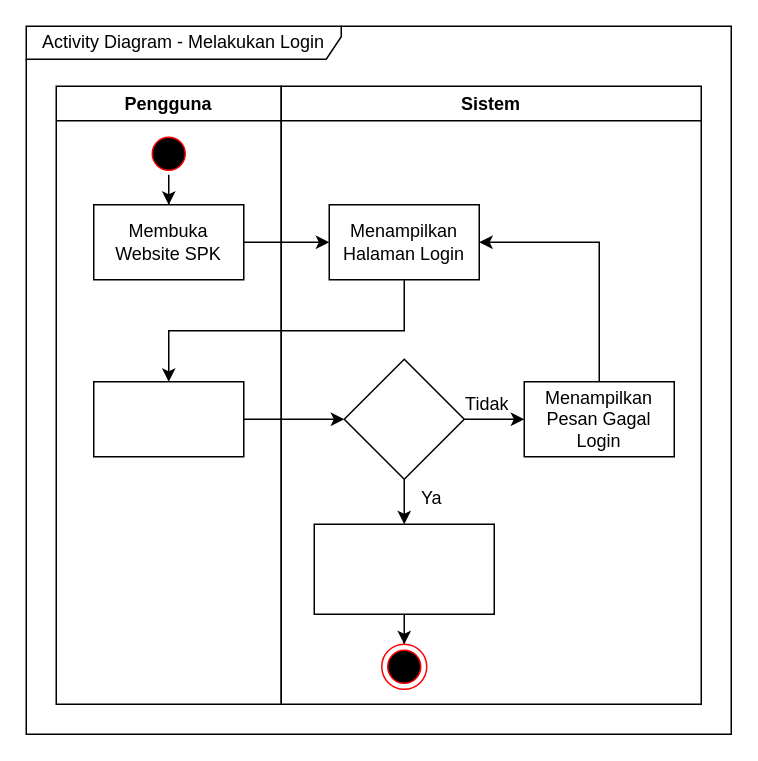
Some shapes in this 758 by 761 pixel diagram are drawn without their labels. Here are the shapes that lost their labels. From the top down, the centre of each, then its label:
At (x=168, y=418): "Mengisi Username & Password".
At (x=403, y=418): "Akun Valid?".
At (x=403, y=568): "Menampilkan Halaman Dashboard".
